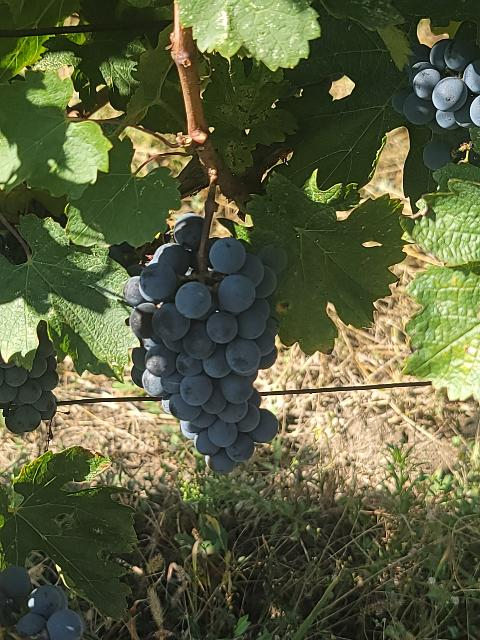grapes: (124, 214, 288, 474), (392, 21, 480, 171), (0, 325, 59, 434)
